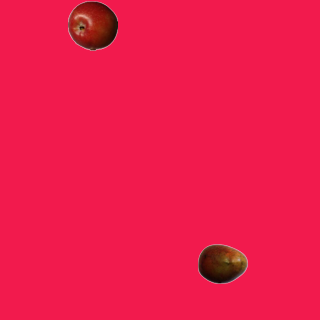Apple Braeburn: (67, 0, 117, 50)
Mango Red: (197, 238, 247, 288)
